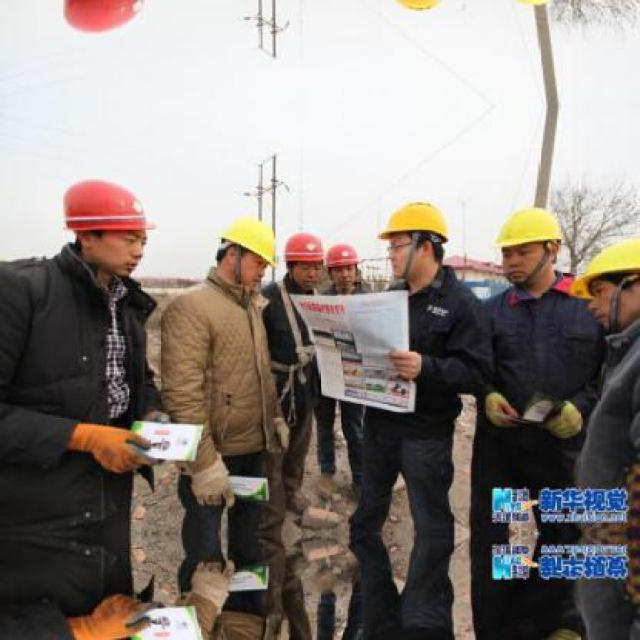helmet: (60, 171, 155, 278), (372, 194, 453, 288), (488, 200, 564, 286), (574, 236, 638, 327), (212, 210, 280, 291), (60, 0, 157, 42), (282, 225, 327, 292), (325, 238, 364, 288), (371, 0, 454, 19)
